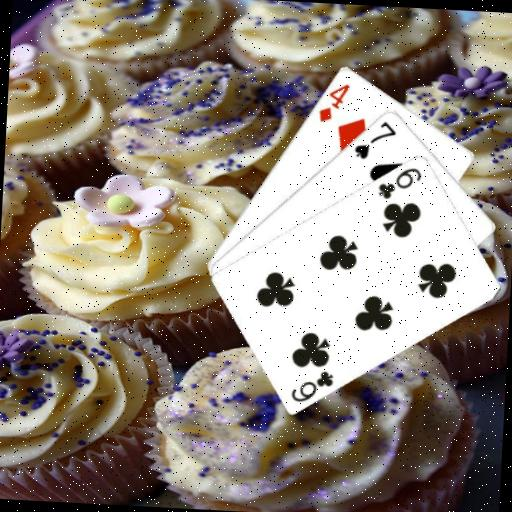4D: (315, 79, 352, 126)
6C: (375, 162, 424, 202), (288, 365, 336, 405)
7S: (351, 116, 399, 162)
